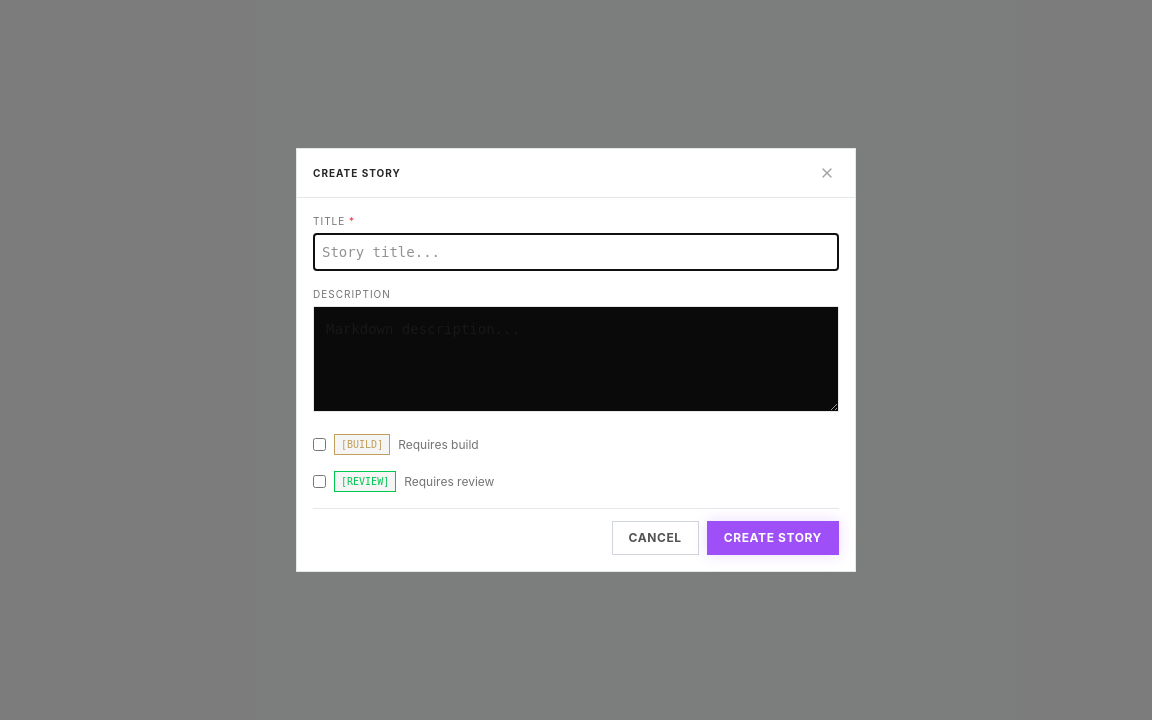
Test case: CreateStoryForm › shows error when submitting with empty title
This screenshot has width=1152, height=720.
Click the button "Create Story".
click(773, 538)  # box [707, 521, 839, 555]
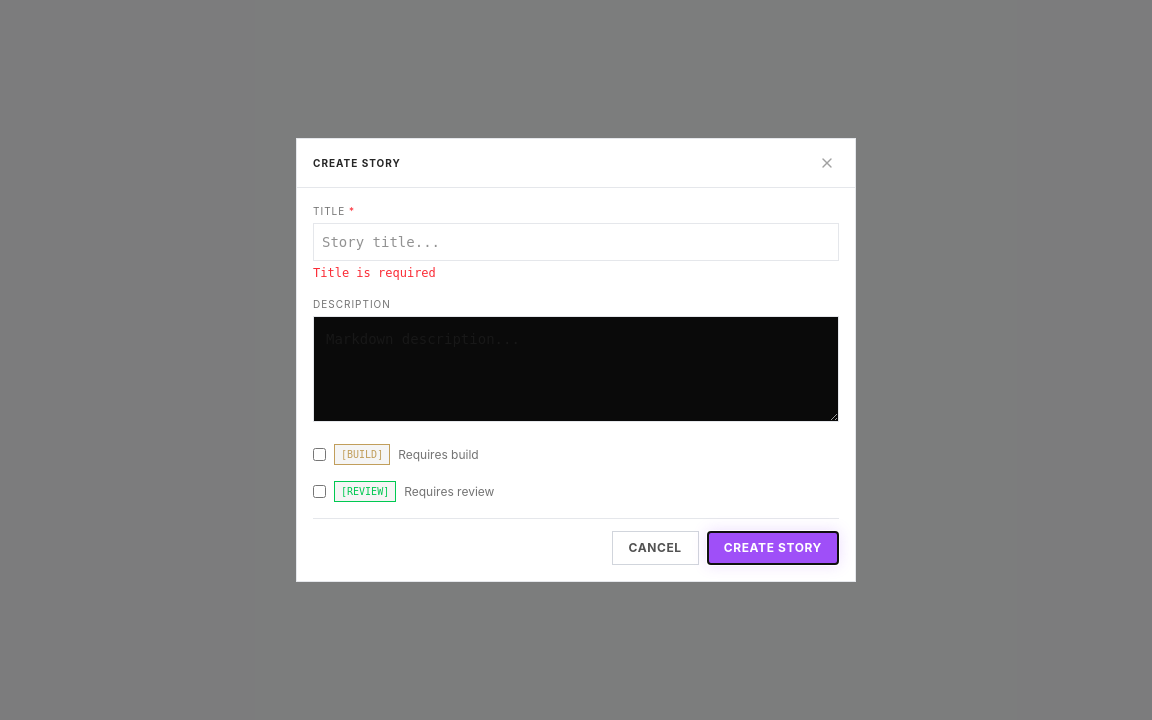
Expected: the text "Title is required" is shown, [313, 266, 436, 280]
